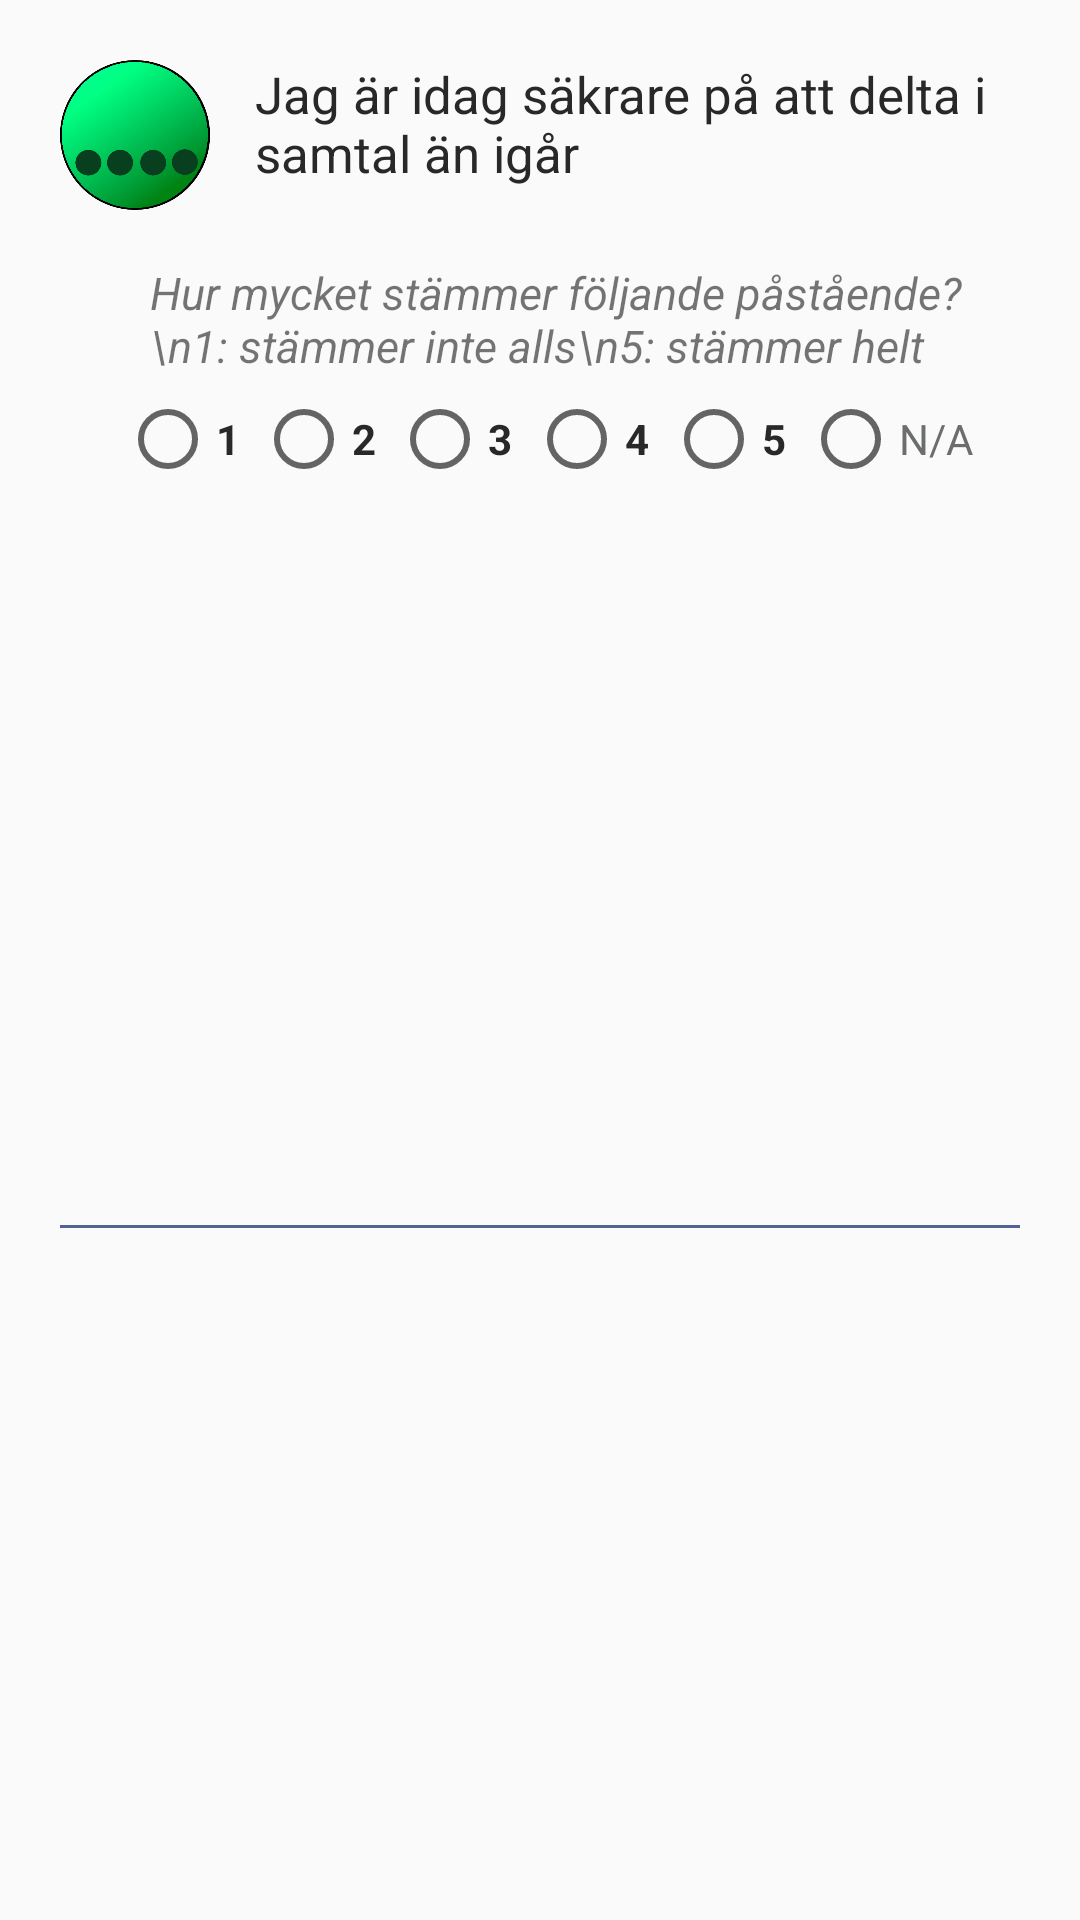

Named icons in this screenshot (1080w x 1920h) and their centers, (x=x, y=y):
lta likert: (x=135, y=135)
